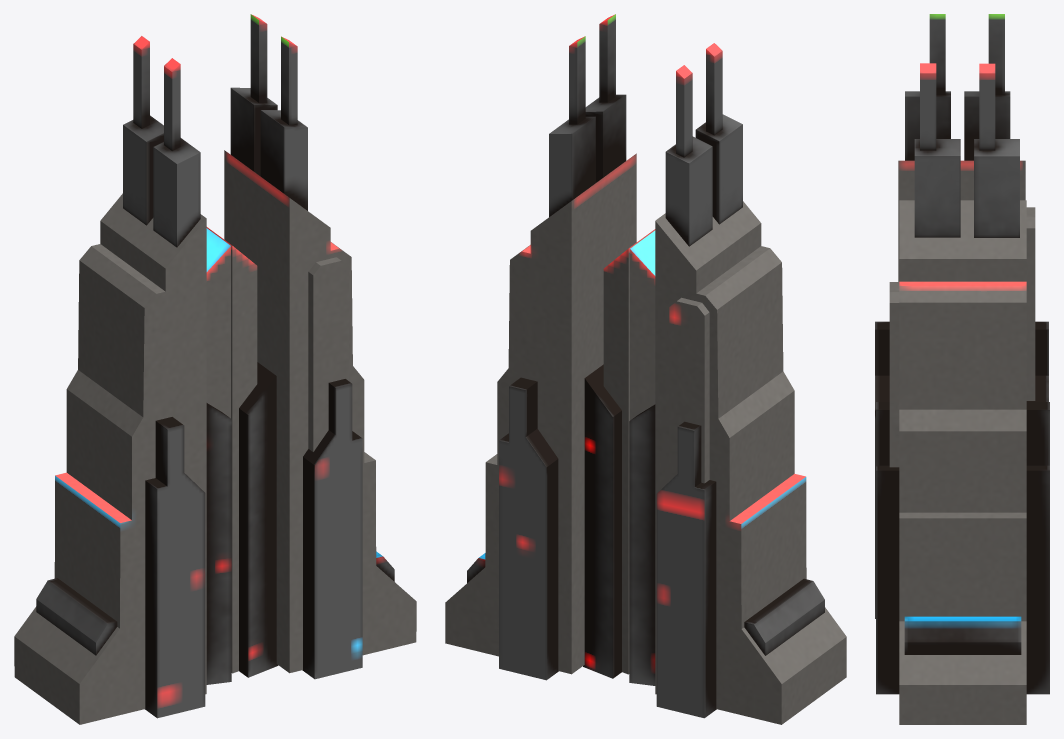
The model's file is SM_BackgroundBuilding_014.fbx.
3 views of the same model, side by side, from view 1: azimuth 30°, elevation 25°; view 2: azimuth 150°, elevation 25°; view 3: azimuth 270°, elevation 25° (orthographic). The views are drawn at different scales.
Parts seen in each view (by area): view 1: SM_BackgroundBuilding_014_LOD0; view 2: SM_BackgroundBuilding_014_LOD0; view 3: SM_BackgroundBuilding_014_LOD0.
Boxes of the visible parts, x1=… form: SM_BackgroundBuilding_014_LOD0: x1=14, y1=14, x2=416, y2=724; SM_BackgroundBuilding_014_LOD0: x1=445, y1=14, x2=846, y2=724; SM_BackgroundBuilding_014_LOD0: x1=875, y1=14, x2=1049, y2=724.
Size of the model in its own units: 2393 by 1100 by 4224.
1 material, 1 textured.
